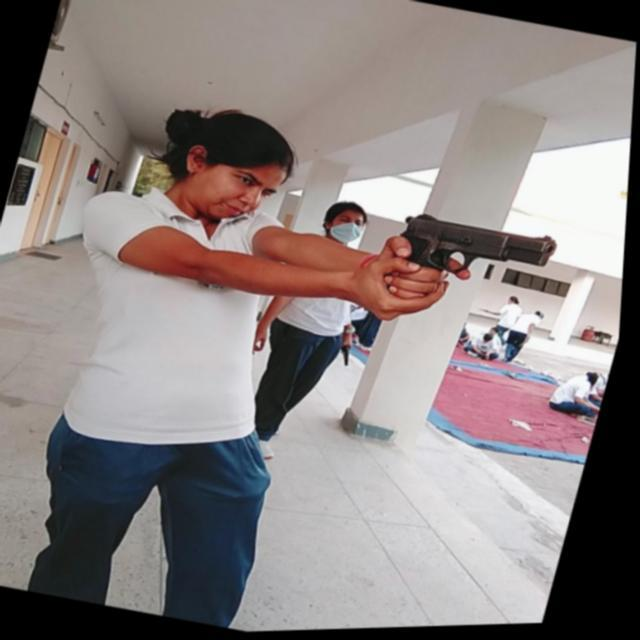weapon: (372, 202, 570, 336)
